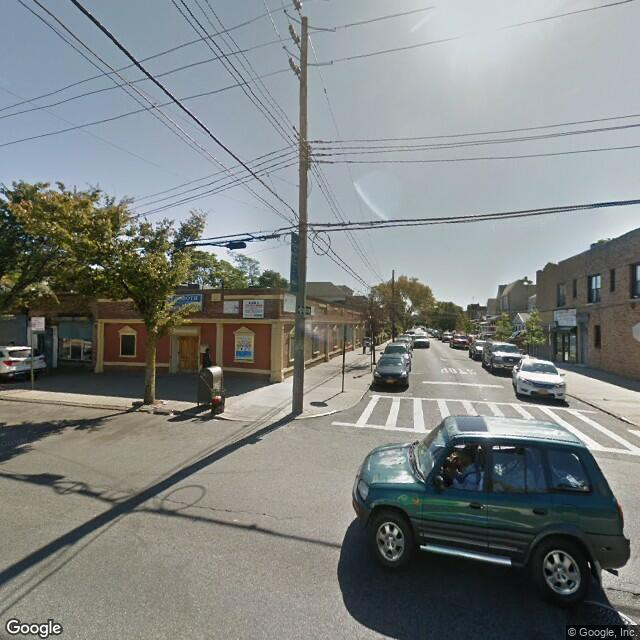litter: (172, 414, 179, 423)
